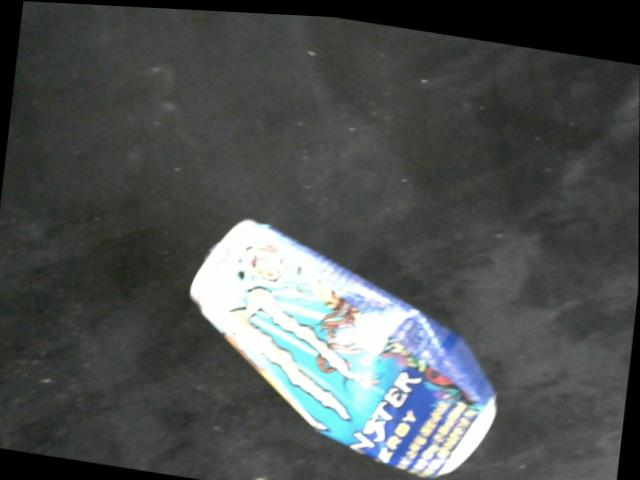can: (190, 210, 499, 473)
